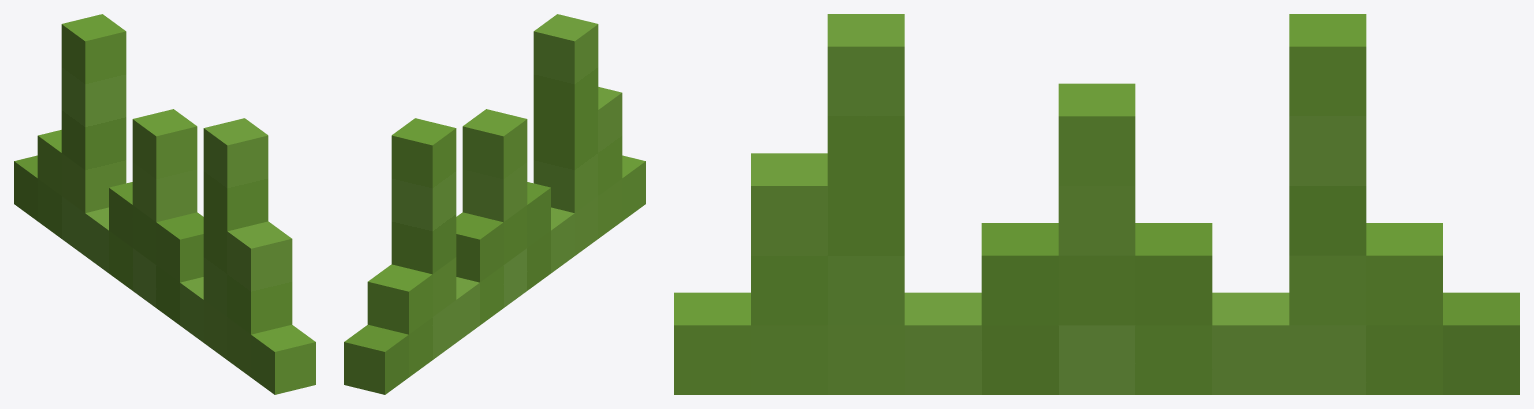
Rendered from grass_3.fbx.
3 renders of one model, left to right at view 1: azimuth 30°, elevation 25°; view 2: azimuth 150°, elevation 25°; view 3: azimuth 270°, elevation 25°, orthographic. The views are drawn at different scales.
Visible parts, largest first — view 1: grass_3; view 2: grass_3; view 3: grass_3.
Part boxes in pixels (left/top/right/bottom): grass_3: left=14, top=14, right=315, bottom=394; grass_3: left=344, top=14, right=645, bottom=394; grass_3: left=674, top=14, right=1519, bottom=394.
Bounding box in the file's own units: 1 × 5 × 11.
Materials: 1 (1 with a texture image).
